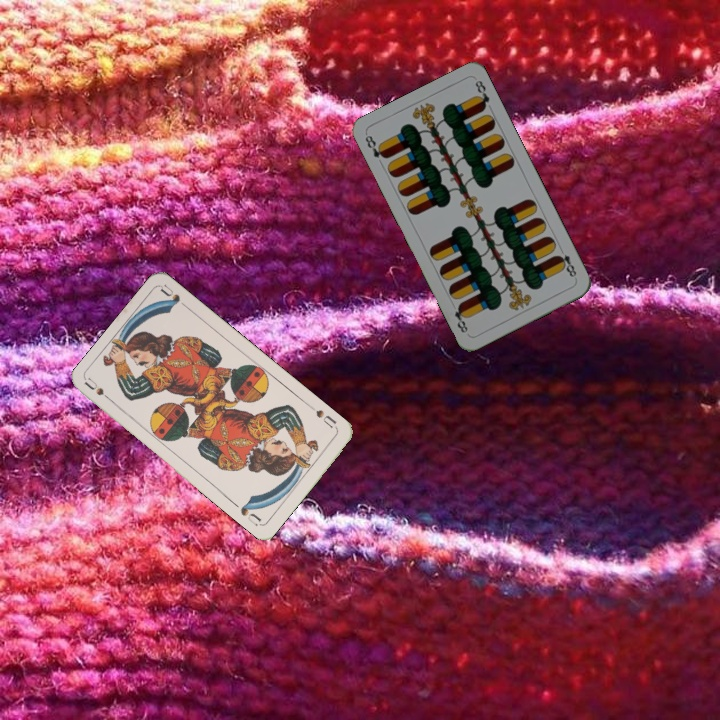E8: (553, 244, 579, 282), (361, 131, 389, 161)
SU: (81, 375, 118, 406), (306, 402, 340, 432)
